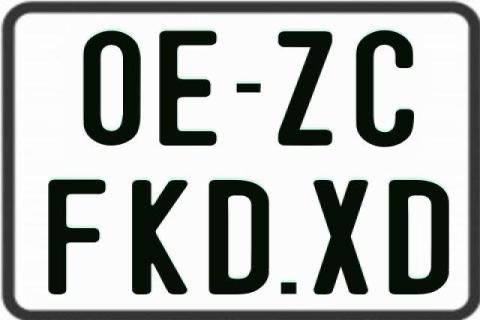0: (80, 28, 142, 148)
C: (356, 30, 418, 152)
D: (389, 180, 454, 297), (209, 178, 273, 296)
E: (159, 30, 220, 150)
F: (45, 179, 105, 296)
K: (129, 179, 185, 295)
X: (313, 178, 368, 294)
Z: (276, 31, 330, 149)
